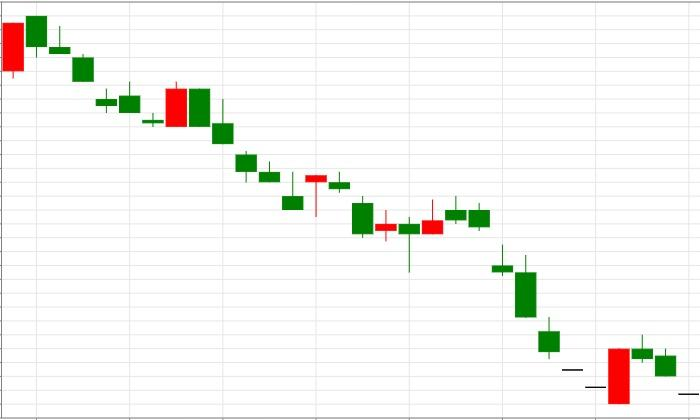bullish_engulfing_rise: (444, 195, 630, 405), (25, 15, 188, 128)
